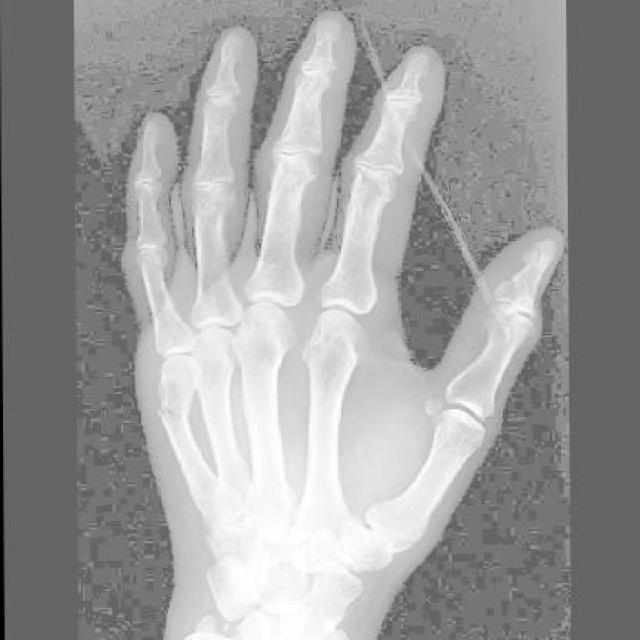Fracture: (149, 392, 191, 429)
